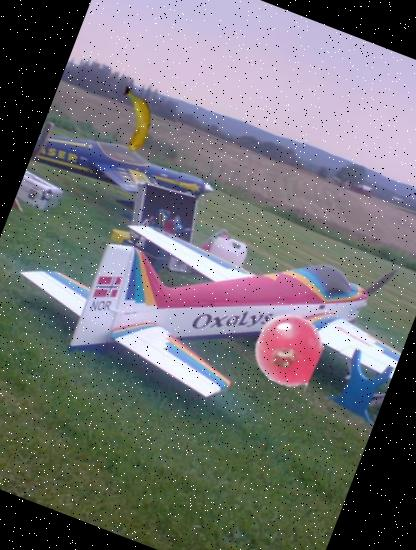Banana: (92, 78, 176, 162)
Redcurrant: (242, 304, 334, 396)
